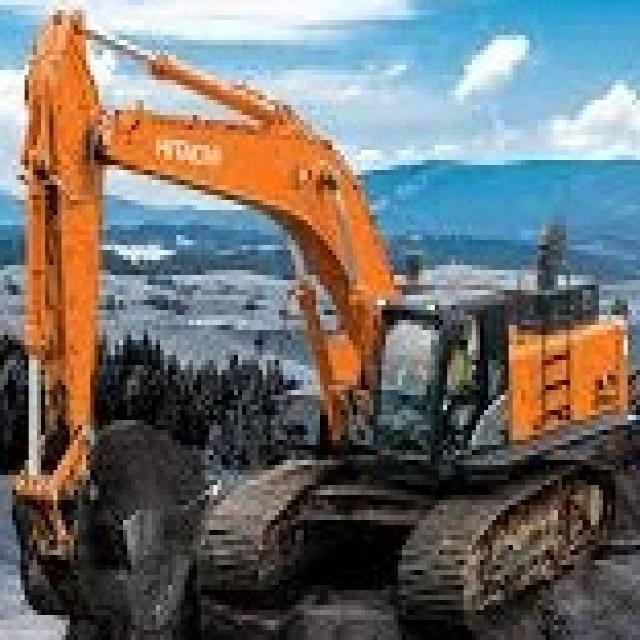excavator: (268, 245, 640, 580)
